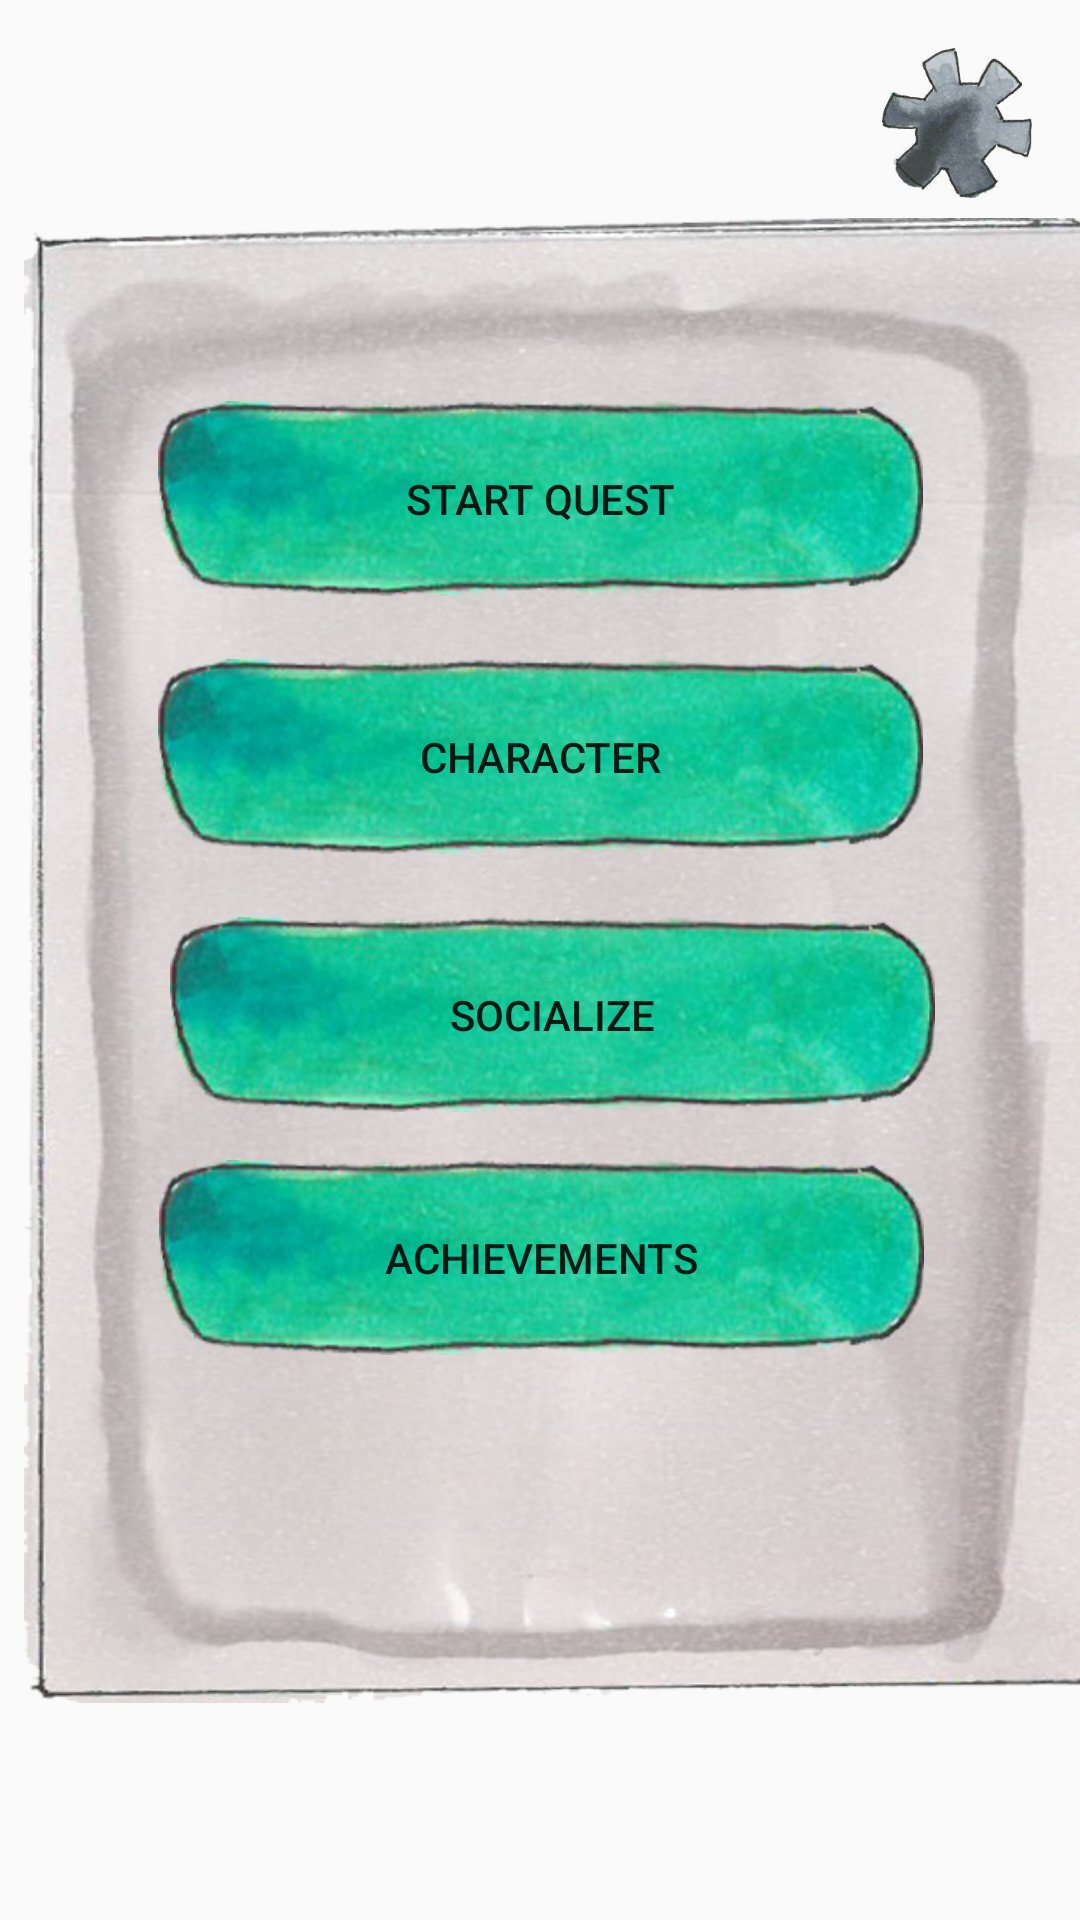

Locate icon controls on the screen. Image size 1080*1920, boxes as (x1, y1, x2, y2).
settings: (882, 48, 1032, 198)
